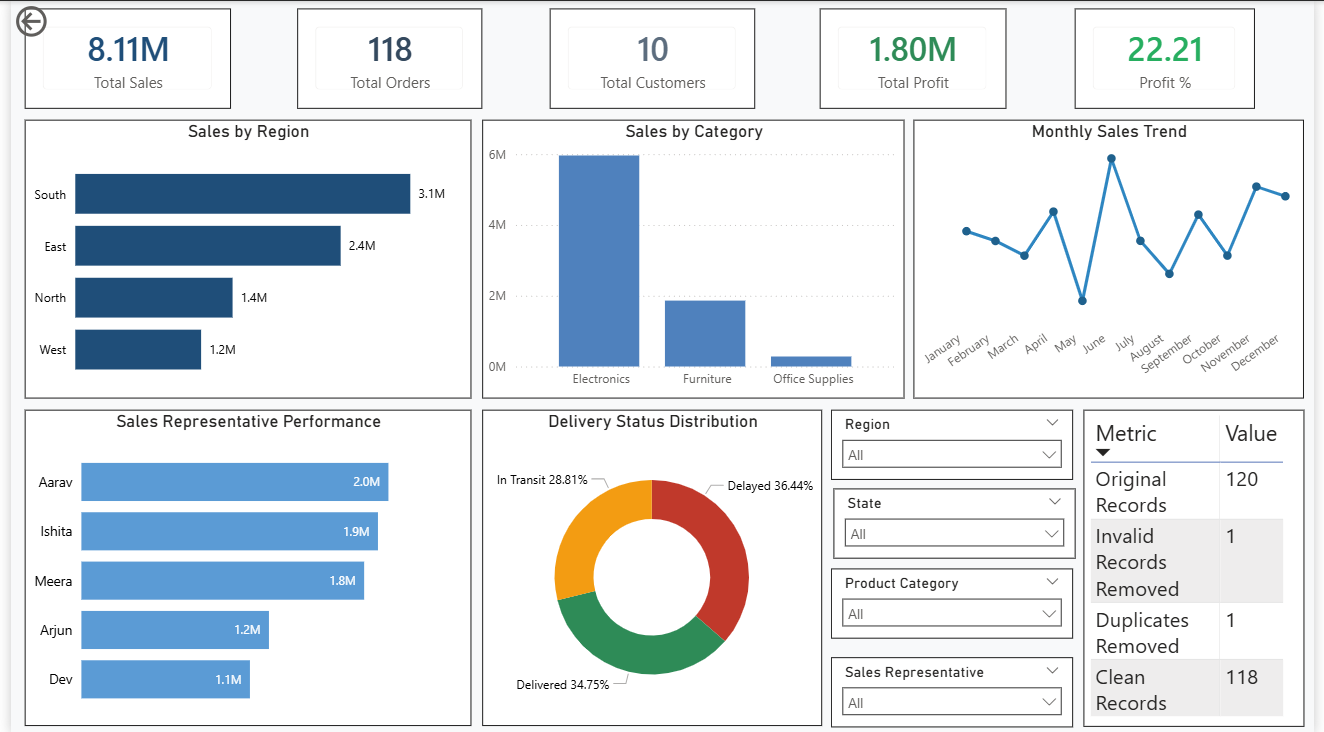

What the dashboard file says about the page in this screenshot:
{"tool":"powerbi","page":{"name":"Sales Data Cleaning & Reporting Dashboard","canvas":[1280,720],"ordinal":0},"visuals":[{"type":"cardVisual","fields":{"Data":["sales_data.Total Sales"]},"box":[13.5,7.4,202.5,98.2],"z":0},{"type":"cardVisual","fields":{"Data":["sales_data.Total Orders"]},"box":[281,7.4,181.6,98.2],"z":1000},{"type":"cardVisual","fields":{"Data":["sales_data.Total Customers"]},"box":[528.3,6.9,201.7,98.8],"z":2000},{"type":"cardVisual","fields":{"Data":["sales_data.Total Profit"]},"box":[793.9,7.4,182.8,98.2],"z":3000},{"type":"cardVisual","fields":{"Data":["sales_data.Profit Margin %"]},"box":[1044.2,7.4,176.7,98.2],"z":4000},{"type":"clusteredBarChart","title":"Sales by Region","fields":{"Category":["sales_data.region"],"Y":["sales_data.Total Sales"]},"box":[13.5,116.6,438,273.6],"z":5000},{"type":"clusteredColumnChart","title":"Sales by Category","fields":{"Category":["sales_data.product_category"],"Y":["sales_data.Total Sales"]},"box":[462.6,116.6,414.7,273.6],"z":6000},{"type":"lineChart","title":"Monthly Sales Trend","fields":{"Category":["sales_data.order_date.Variation.Date Hierarchy.Month"],"Y":["sales_data.Total Sales"]},"box":[885.9,116.6,382.8,273.6],"z":7000},{"type":"barChart","title":"Sales Representative Performance","fields":{"Category":["sales_data.sales_representative"],"Y":["sales_data.Total Sales"]},"box":[13.5,401.2,438,310.4],"z":8000},{"type":"donutChart","title":"Delivery Status Distribution","fields":{"Category":["sales_data.delivery_status"],"Y":["CountNonNull(sales_data.order_id)"]},"box":[462.6,401.2,333.7,310.4],"z":9000},{"type":"tableEx","fields":{"Values":["Data Quality Summary.Column1","Data Quality Summary.Column2"]},"box":[1052.5,400.7,216.8,311.5],"z":10000},{"type":"slicer","fields":{"Values":["sales_data.region"]},"box":[805.5,400.7,237.4,68.6],"z":11000},{"type":"slicer","fields":{"Values":["sales_data.state"]},"box":[806.9,478.9,237.4,68.6],"z":12000},{"type":"slicer","fields":{"Values":["sales_data.product_category"]},"box":[805.5,557.1,237.4,68.6],"z":13000},{"type":"slicer","fields":{"Values":["sales_data.sales_representative"]},"box":[805.5,643.6,237.4,68.6],"z":14000},{"type":"actionButton","box":[0,0,100,40],"z":15000}]}

Visuals, with their boxes in screenshot pixels (x1, y1, x2, y2), scaled from the page's 1280x720 canvas onto the 1324x732 screenshot:
cardVisual - sales_data.Total Sales: region(14, 8, 223, 107)
cardVisual - sales_data.Total Orders: region(291, 8, 479, 107)
cardVisual - sales_data.Total Customers: region(546, 7, 755, 107)
cardVisual - sales_data.Total Profit: region(821, 8, 1010, 107)
cardVisual - sales_data.Profit Margin %: region(1080, 8, 1263, 107)
"Sales by Region" clusteredBarChart: region(14, 119, 467, 397)
"Sales by Category" clusteredColumnChart: region(479, 119, 907, 397)
"Monthly Sales Trend" lineChart: region(916, 119, 1312, 397)
"Sales Representative Performance" barChart: region(14, 408, 467, 723)
"Delivery Status Distribution" donutChart: region(479, 408, 824, 723)
tableEx - Data Quality Summary.Column1 x Data Quality Summary.Column2: region(1089, 407, 1313, 724)
slicer - sales_data.region: region(833, 407, 1079, 477)
slicer - sales_data.state: region(835, 487, 1080, 557)
slicer - sales_data.product_category: region(833, 566, 1079, 636)
slicer - sales_data.sales_representative: region(833, 654, 1079, 724)
actionButton: region(0, 0, 103, 41)
